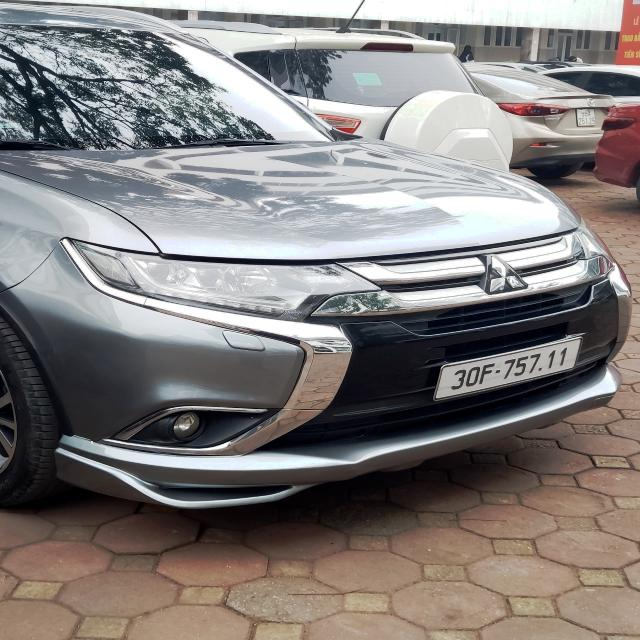license_plate: (436, 339, 584, 401)
